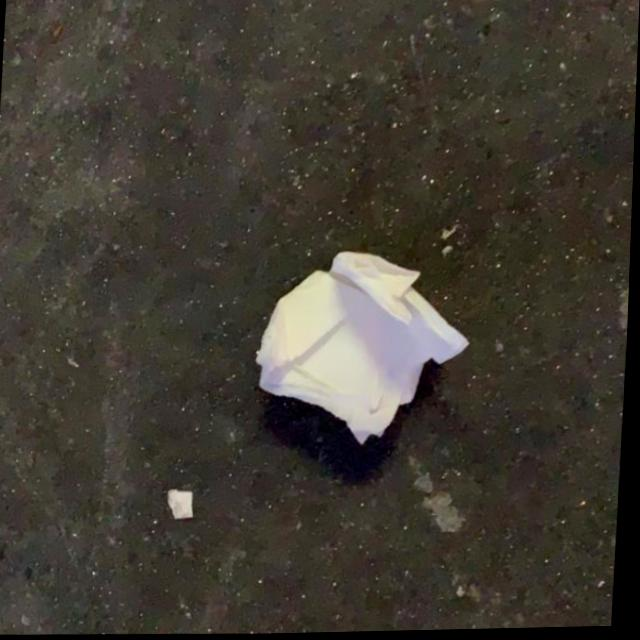Paper: (253, 247, 479, 453)
